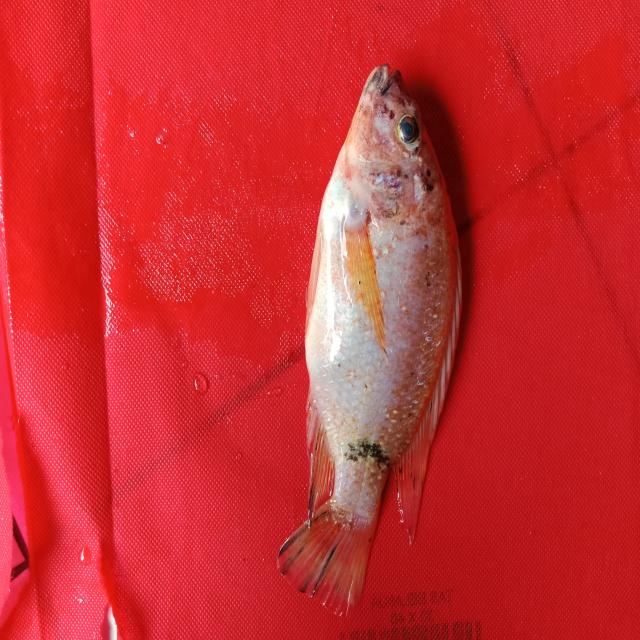ikan: (290, 60, 470, 608)
